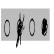correct: (41, 15, 48, 39)
no answer: (29, 16, 35, 38)
not correct: (16, 11, 24, 49)
